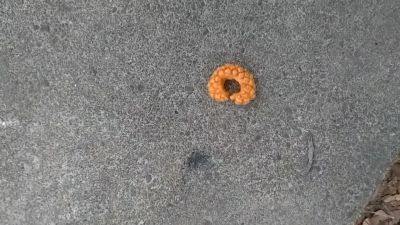eggs: (208, 64, 257, 108)
